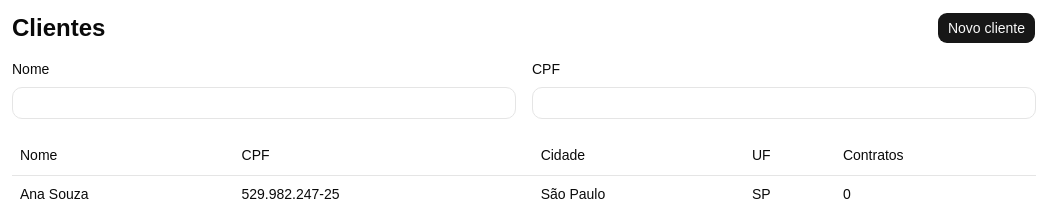
Test: telas de clientes › lista › se a busca falha, mostra o erro e não mantém as linhas antigas
Expected: the link "Ana Souza" is shown, [20, 186, 88, 202]
Type "Bruno" into the field labelled "Nome" at point(264, 103), box [12, 87, 516, 119]
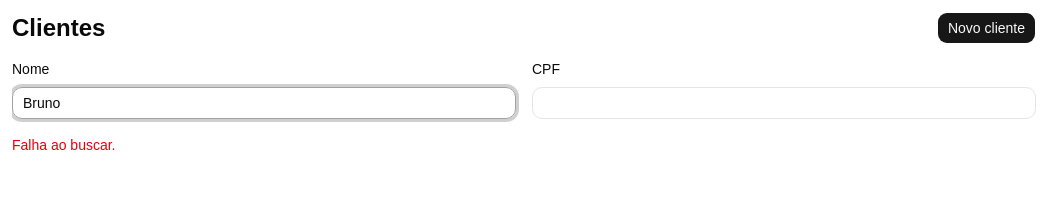
Expected: the text "Falha ao buscar." is shown, [12, 137, 116, 153]
Expected: the link "Ana Souza" is gone
